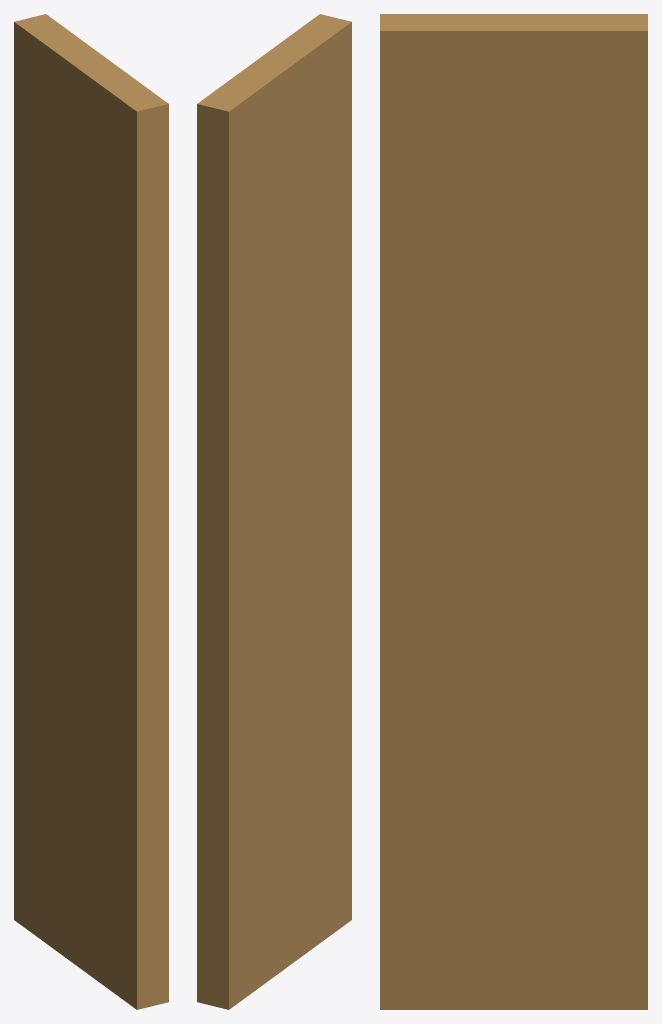
3 renders of one model, left to right at view 1: azimuth 30°, elevation 25°; view 2: azimuth 150°, elevation 25°; view 3: azimuth 270°, elevation 25°, orthographic. The views are drawn at different scales.
Visible parts, largest first — view 1: FF-W143; view 2: FF-W143; view 3: FF-W143.
Part boxes in pixels (bbox=[...]): FF-W143: bbox=[14, 14, 168, 1009]; FF-W143: bbox=[197, 14, 351, 1009]; FF-W143: bbox=[380, 14, 647, 1009].
Size of the model in its own units: 0.09 by 2.42 by 0.6.
